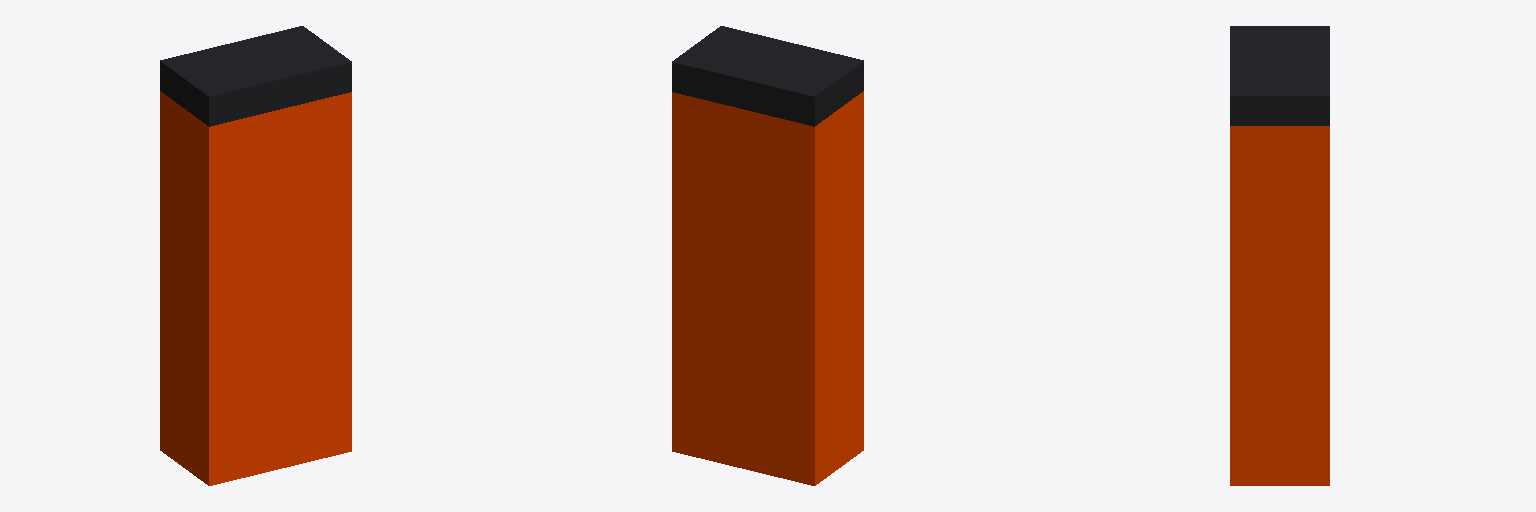
3 renders of one model, left to right at view 1: azimuth 30°, elevation 25°; view 2: azimuth 150°, elevation 25°; view 3: azimuth 270°, elevation 25°, orthographic.
Visible parts, largest first — view 1: object 1; view 2: object 1; view 3: object 1.
Boxes of the visible parts, x1=… form: object 1: x1=160, y1=26, x2=351, y2=485; object 1: x1=672, y1=26, x2=863, y2=485; object 1: x1=1230, y1=26, x2=1329, y2=485.
Size of the model in its own units: 0.5 by 1.3 by 0.3.
Materials: 1 (1 with a texture image).